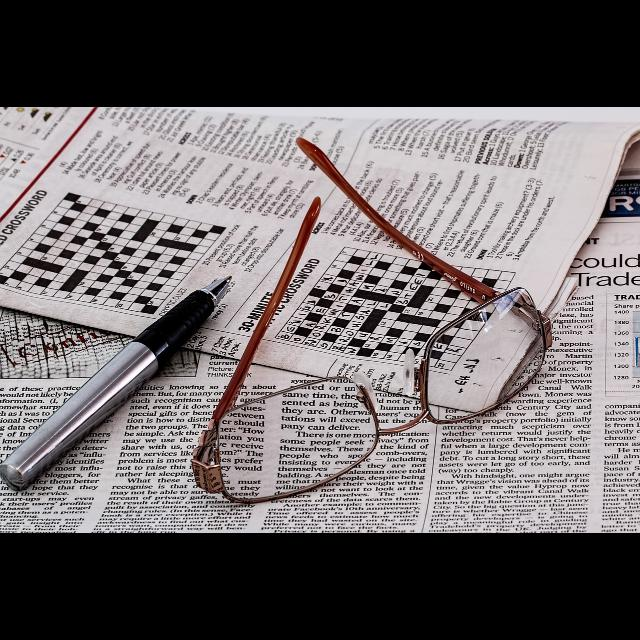glasses: (136, 147, 586, 525)
